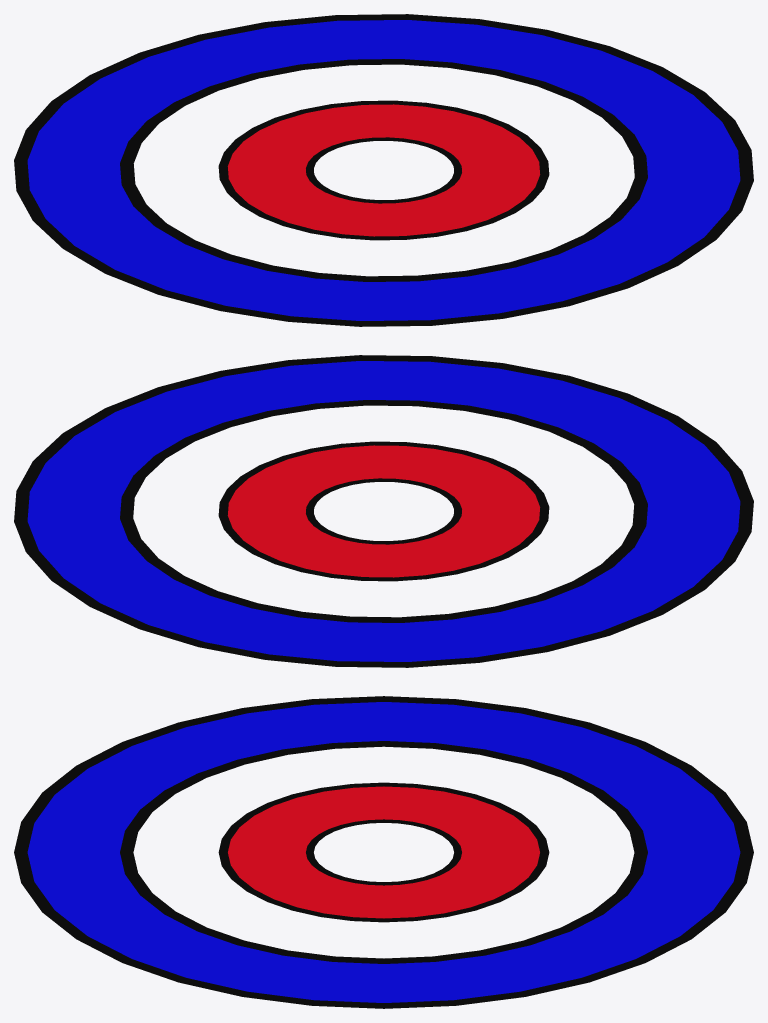
Rendered from Target.fbx.
3 renders of one model, top to bottom at view 1: azimuth 30°, elevation 25°; view 2: azimuth 150°, elevation 25°; view 3: azimuth 270°, elevation 25°, orthographic.
Visible parts, largest first — view 1: Target; view 2: Target; view 3: Target.
Boxes of the visible parts, bbox=[...] form: Target: bbox=[14, 14, 753, 326]; Target: bbox=[14, 355, 753, 667]; Target: bbox=[14, 696, 753, 1008].
Bounding box in the file's own units: 1178 × 0.000192 × 1178.
